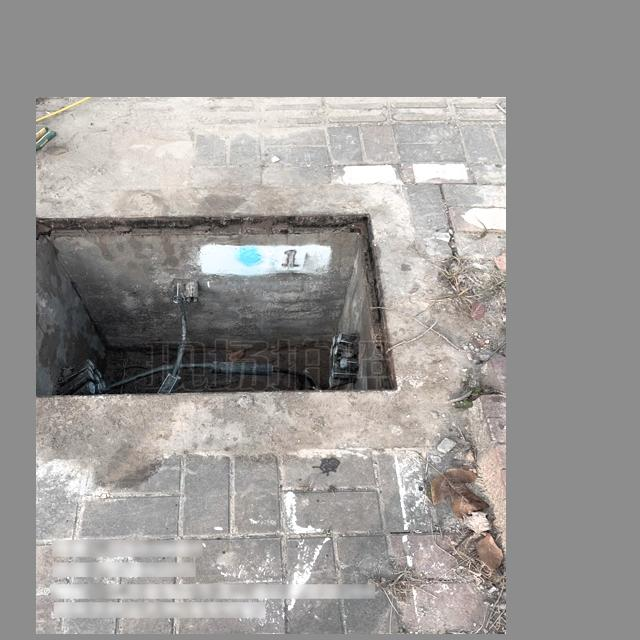lose: (40, 215, 402, 393)
